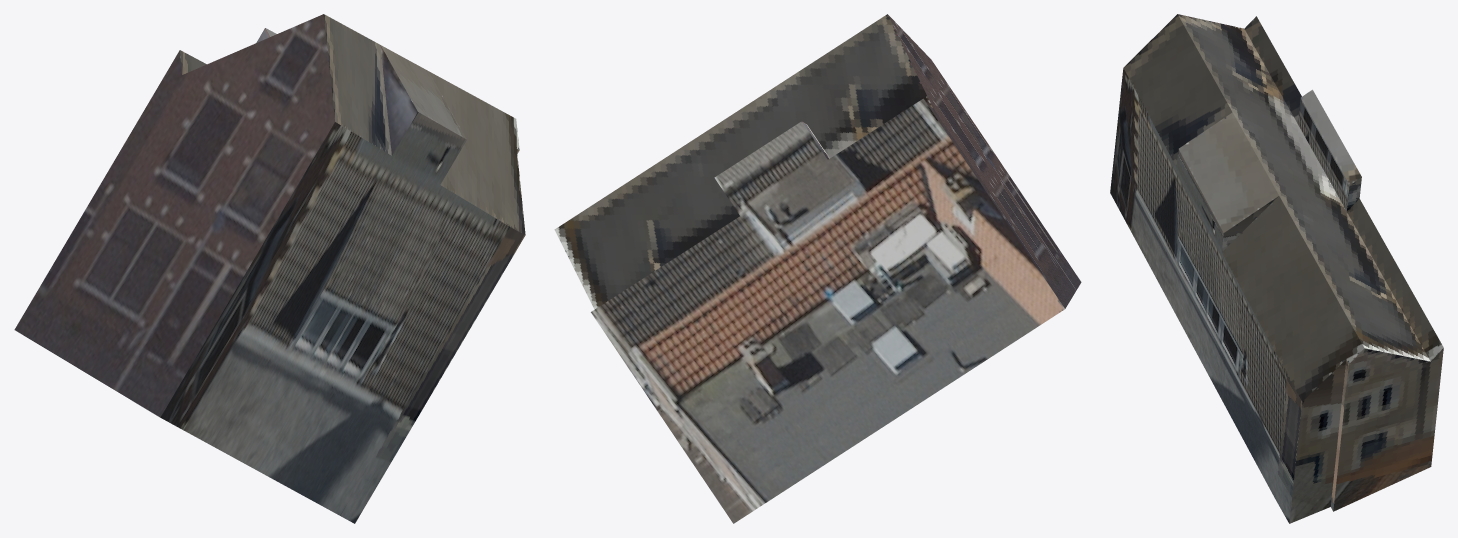
The picture shows the model from 3 angles, left to right: view 1: azimuth 30°, elevation 25°; view 2: azimuth 150°, elevation 25°; view 3: azimuth 270°, elevation 25°; orthographic projection. The views are drawn at different scales.
Visible parts, largest first — view 1: BAG_0599100000656925 (×4); view 2: BAG_0599100000656925 (×2); view 3: BAG_0599100000656925 (×5).
Part boxes in pixels (x1=…): BAG_0599100000656925 (×4): x1=14, y1=14, x2=525, y2=523; BAG_0599100000656925 (×2): x1=554, y1=14, x2=1081, y2=523; BAG_0599100000656925 (×5): x1=1110, y1=14, x2=1443, y2=523.
Size of the model in its own units: 16.16 by 15.67 by 10.08.
Materials: 5 (5 with a texture image).
